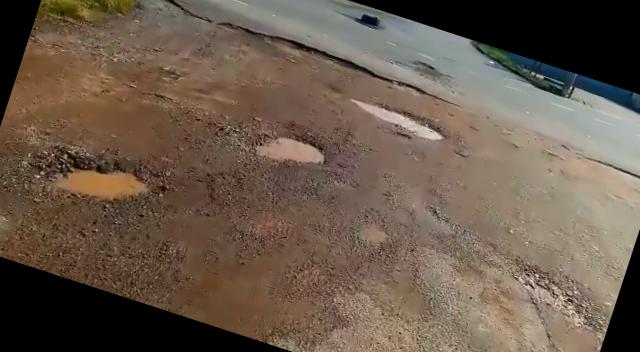pothole: (36, 142, 159, 222), (352, 96, 454, 146), (251, 122, 334, 178), (348, 212, 398, 254)
